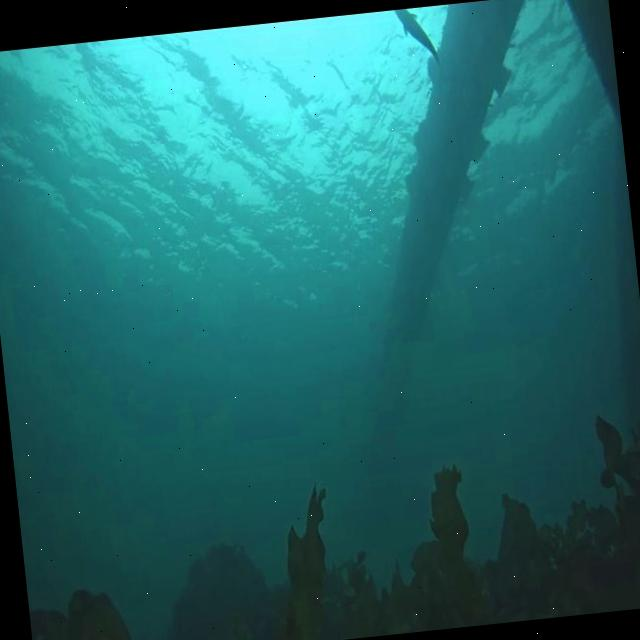fish: (395, 6, 440, 73)
